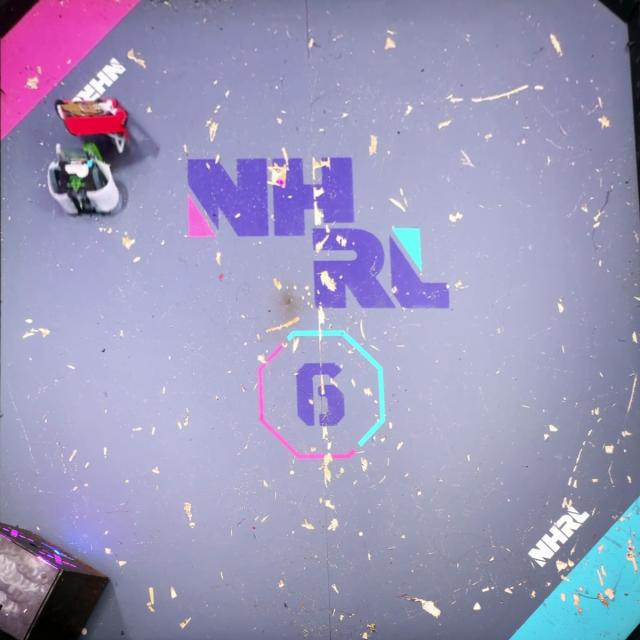housebot: (0, 518, 110, 640)
robot: (46, 141, 125, 216), (54, 96, 130, 154)
